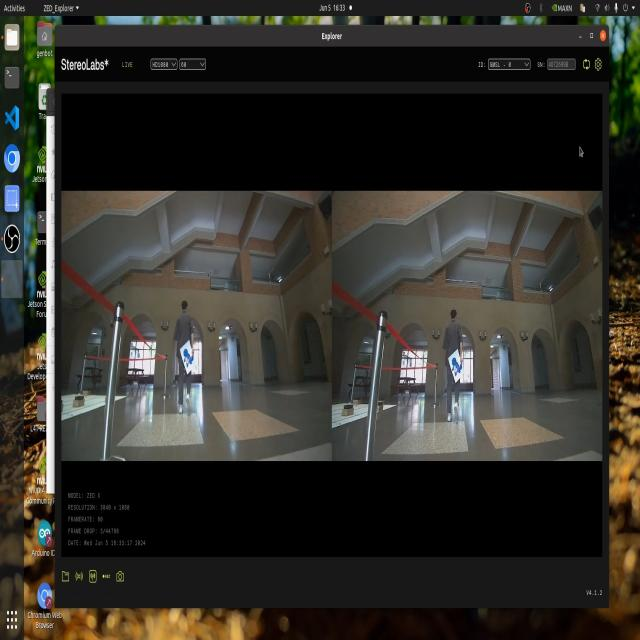blue: (449, 358, 463, 379), (183, 349, 194, 371)
